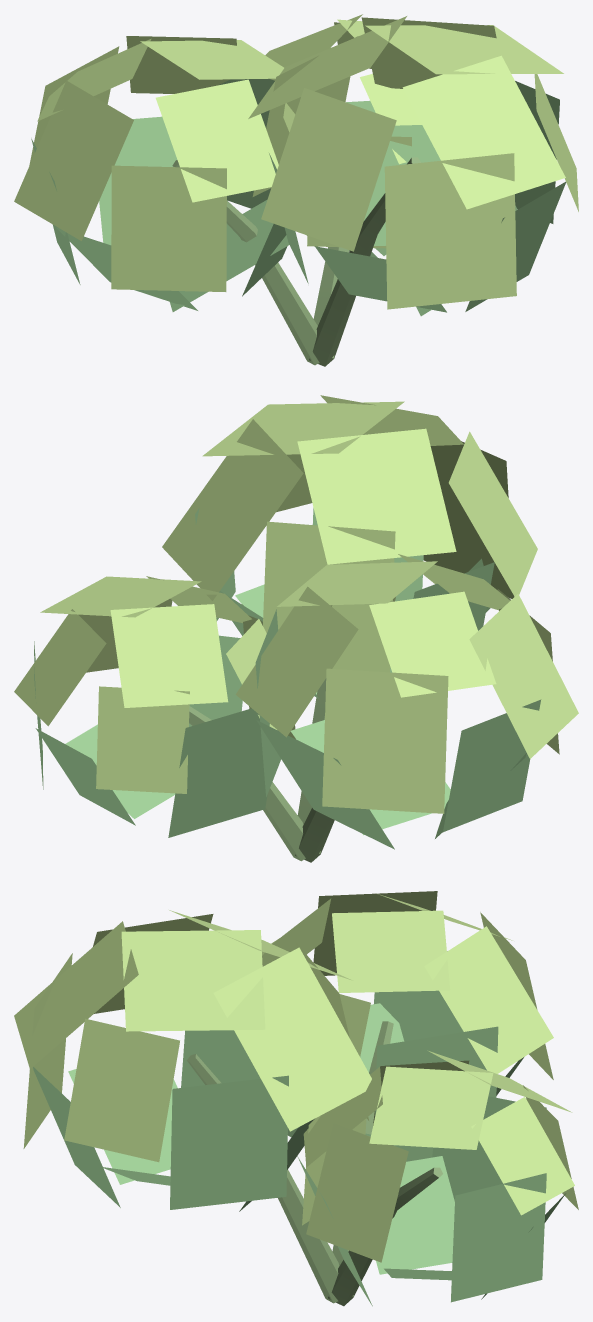
Rendered from plant_shrub_b.glb.
3 views of the same model, one above another, from view 1: azimuth 30°, elevation 25°; view 2: azimuth 150°, elevation 25°; view 3: azimuth 270°, elevation 25° (orthographic). The views are drawn at different scales.
Visible parts, largest first — view 1: plant_shrub_b; view 2: plant_shrub_b; view 3: plant_shrub_b.
Boxes of the visible parts, left/top/right/bottom form: plant_shrub_b: left=14, top=14, right=578, bottom=366; plant_shrub_b: left=14, top=395, right=578, bottom=862; plant_shrub_b: left=14, top=891, right=578, bottom=1306.
Bounding box in the file's own units: 1.87 × 1.38 × 1.88.
